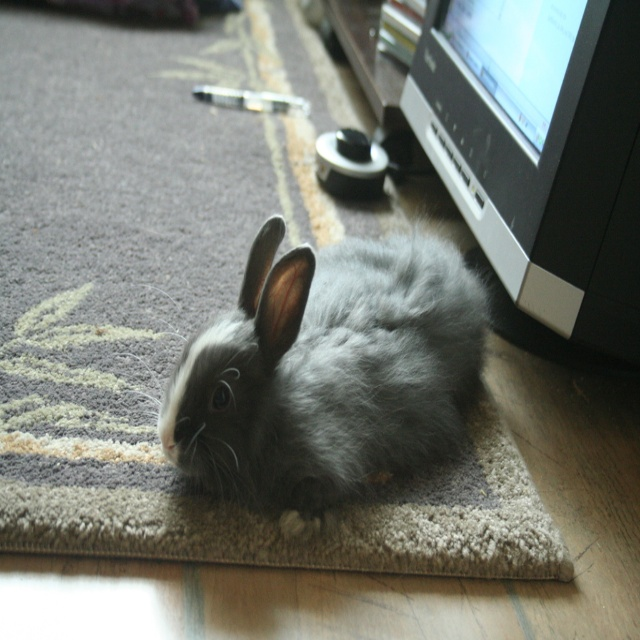Rabbit: (112, 212, 489, 544)
